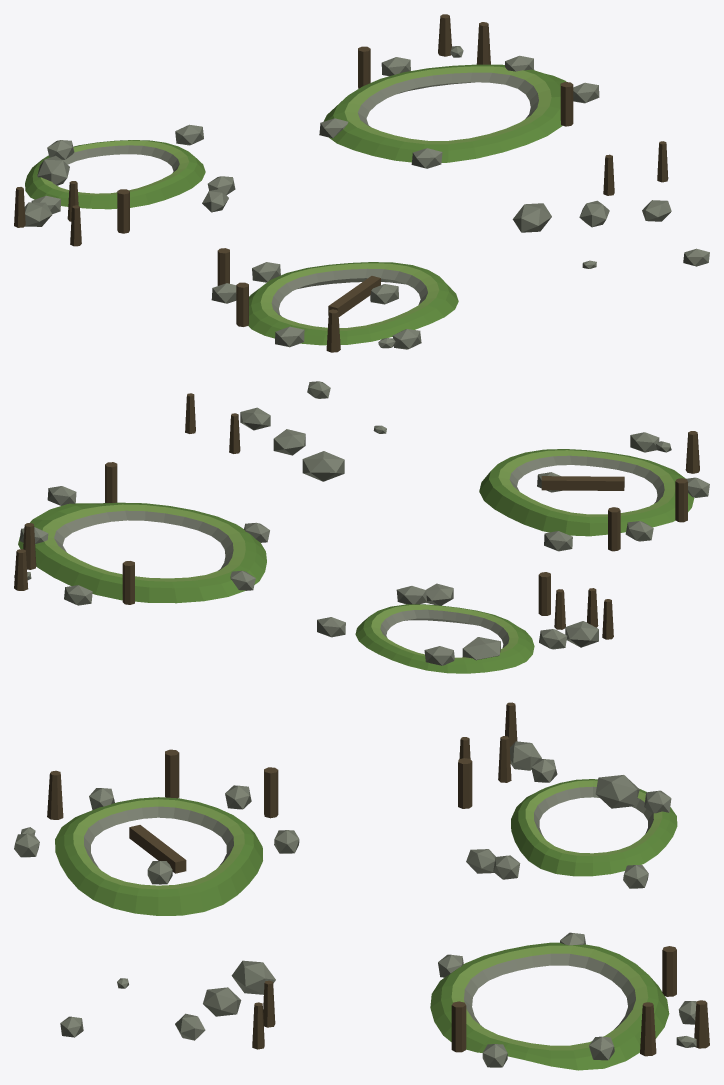
Rendered from wetland_pools_solid_props.fbx.
3 renders of one model, top to bottom at view 1: azimuth 30°, elevation 25°; view 2: azimuth 150°, elevation 25°; view 3: azimuth 270°, elevation 25°, orthographic. The views are drawn at different scales.
Parts seen in each view (by area): view 1: chunk_wetland_pools__PropsSolid; view 2: chunk_wetland_pools__PropsSolid; view 3: chunk_wetland_pools__PropsSolid.
Part boxes in pixels (box(x1,y1,x2,y2)): chunk_wetland_pools__PropsSolid: box(14, 14, 709, 352); chunk_wetland_pools__PropsSolid: box(14, 381, 709, 673); chunk_wetland_pools__PropsSolid: box(14, 702, 709, 1070).
Size of the model in its own units: 215 by 20.88 by 197.
